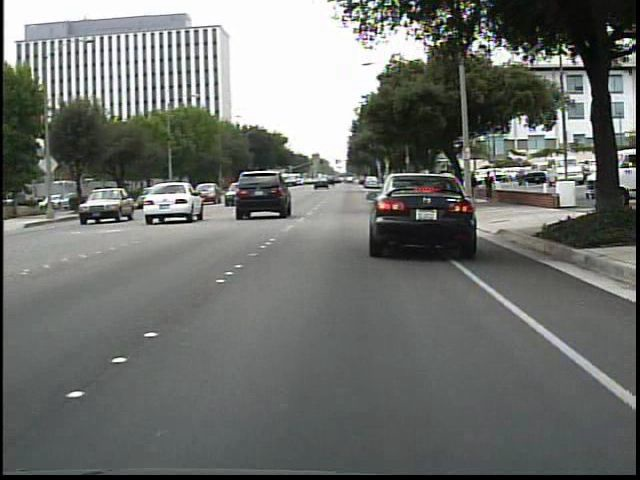person: (482, 171, 496, 205), (467, 172, 482, 202)
